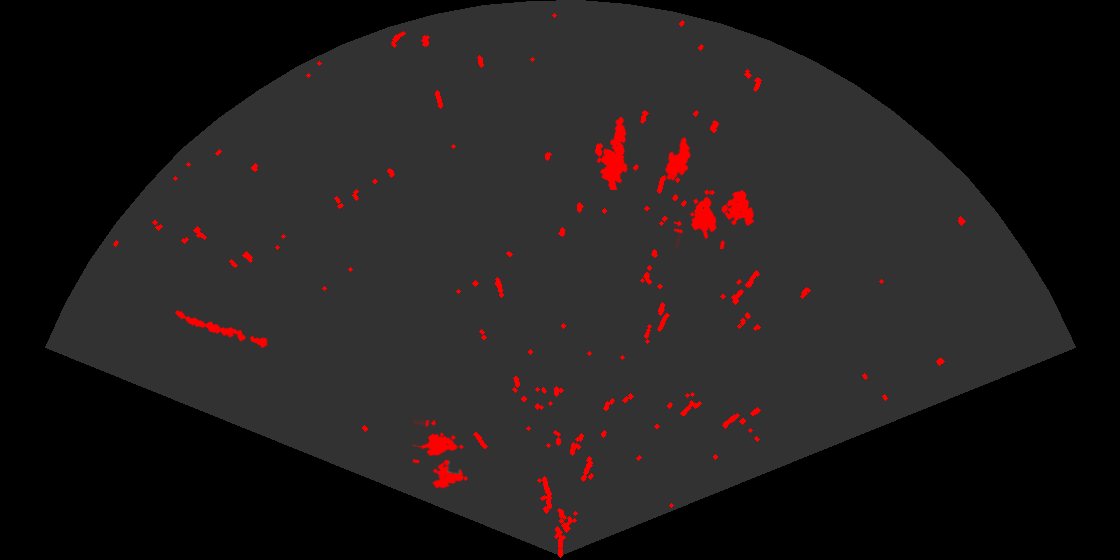AUV: (663, 135, 692, 183)
cage: (674, 188, 756, 249), (413, 420, 465, 490)
chain: (173, 309, 270, 350)
frogman: (595, 115, 629, 190)
